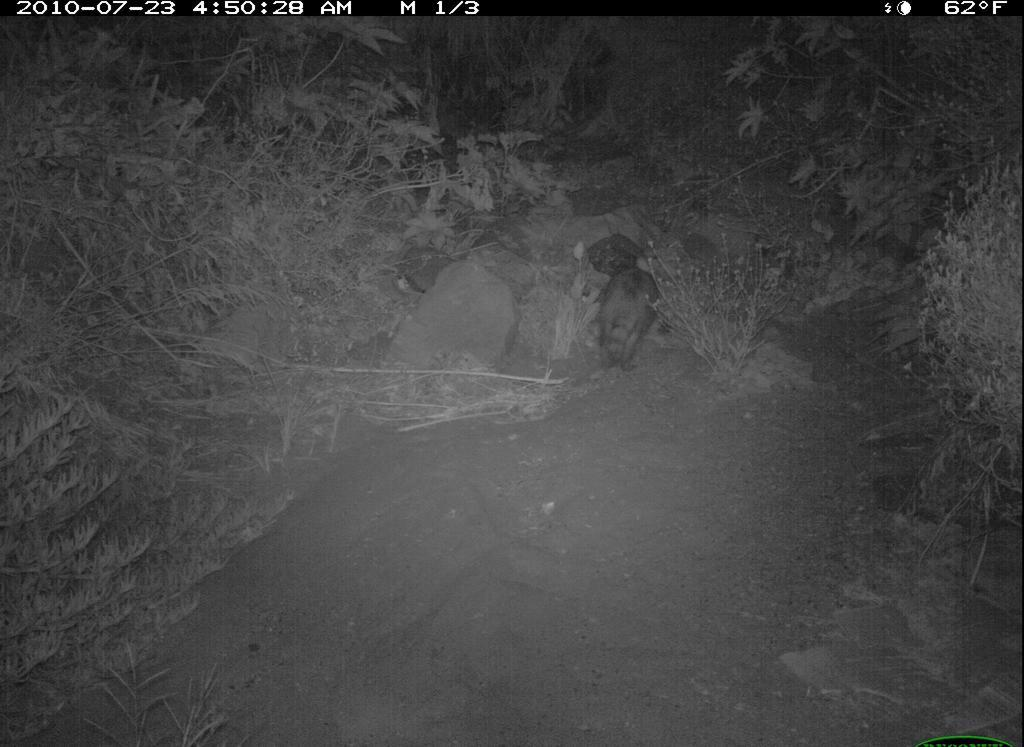raccoon: (573, 230, 669, 388)
